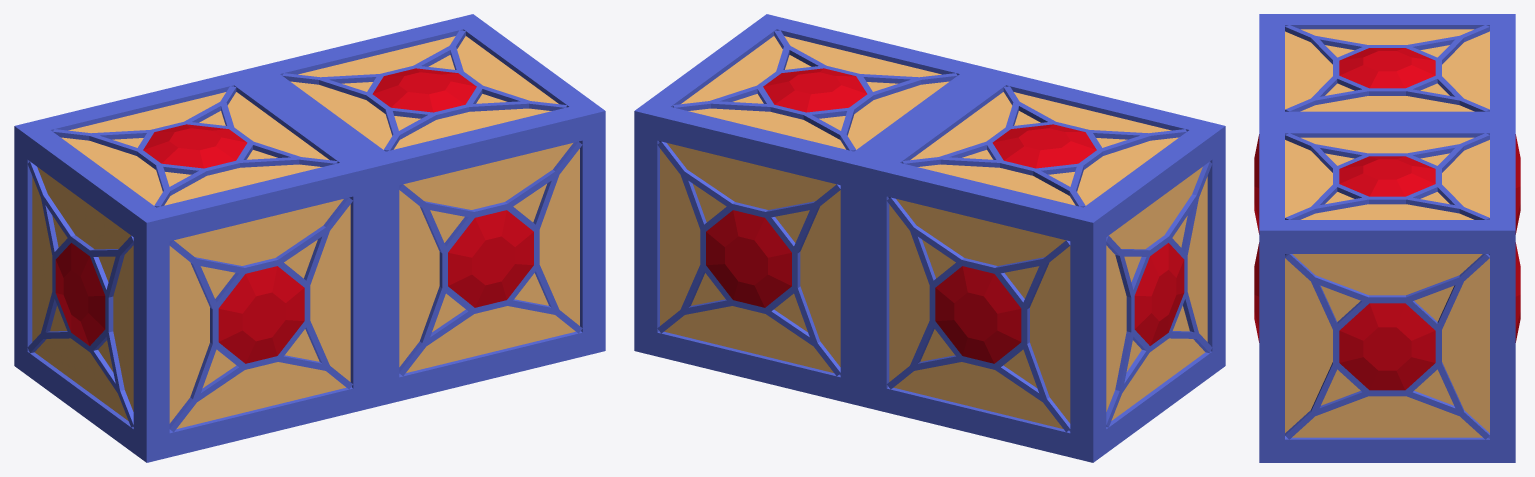
File: 2x1Pushblock.fbx
The picture shows the model from 3 angles, left to right: view 1: azimuth 30°, elevation 25°; view 2: azimuth 150°, elevation 25°; view 3: azimuth 270°, elevation 25°; orthographic projection. The views are drawn at different scales.
Visible parts, largest first — view 1: PushBlock.001, PushBlock.002; view 2: PushBlock.001, PushBlock.002; view 3: PushBlock.002, PushBlock.001.
Boxes of the visible parts, <box> form: PushBlock.001: <box>14,70,376,462</box>; PushBlock.002: <box>244,14,605,406</box>; PushBlock.001: <box>863,70,1225,462</box>; PushBlock.002: <box>634,14,995,406</box>; PushBlock.002: <box>1254,122,1520,462</box>; PushBlock.001: <box>1254,14,1520,234</box>.
Size of the model in its own units: 204 by 103 by 104.
